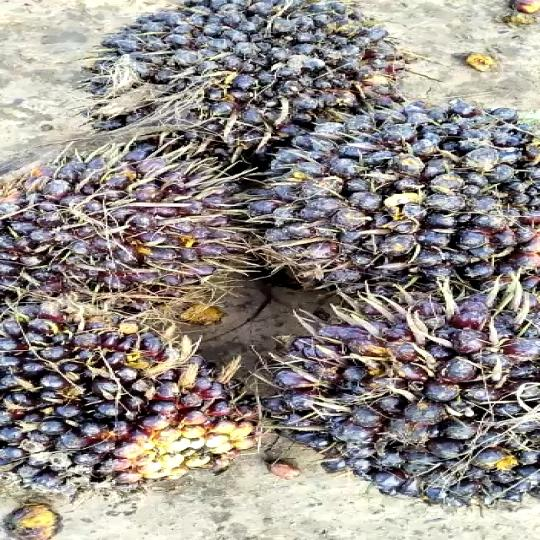mentah: (248, 254, 529, 507), (72, 0, 438, 158), (247, 109, 540, 302), (0, 289, 258, 495), (1, 147, 279, 310)
